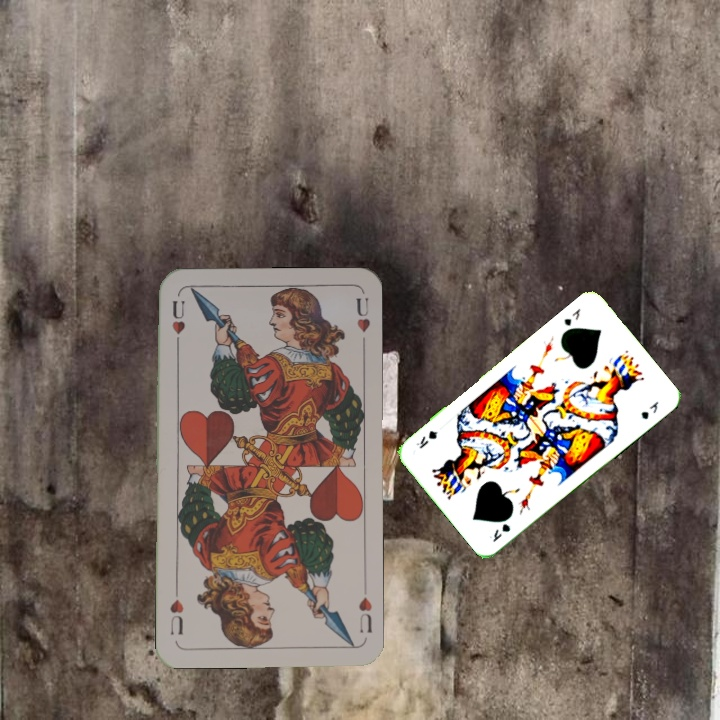GK: (485, 519, 513, 545), (560, 304, 583, 328)
HU: (168, 296, 188, 352), (355, 593, 374, 635)
